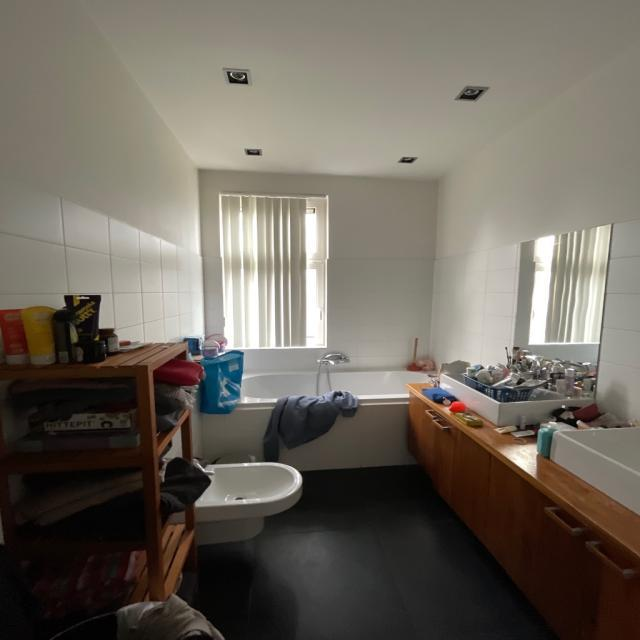bath: (233, 348, 438, 432)
toilet: (183, 456, 306, 548)
wastafel: (408, 381, 640, 640), (439, 347, 640, 517)
